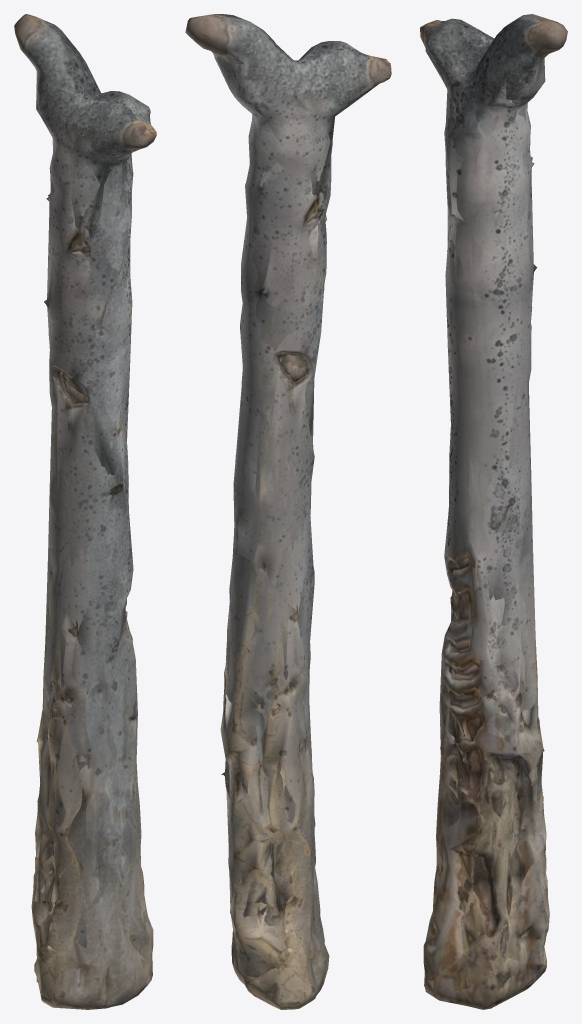
File: dead_quiver_trunk.glb
The picture shows the model from 3 angles, left to right: view 1: azimuth 90°, elevation 25°; view 2: azimuth 150°, elevation 25°; view 3: azimuth 270°, elevation 25°; orthographic projection. The views are drawn at different scales.
Parts seen in each view (by area): view 1: dead_quiver_trunk_LOD0 (×2); view 2: dead_quiver_trunk_LOD0 (×2); view 3: dead_quiver_trunk_LOD0 (×2).
Part boxes in pixels (<box>): dead_quiver_trunk_LOD0 (×2): <box>14,14,156,1009</box>; dead_quiver_trunk_LOD0 (×2): <box>185,14,391,1009</box>; dead_quiver_trunk_LOD0 (×2): <box>420,14,567,1009</box>.
Size of the model in its own units: 0.3053 by 1.99 by 0.2682.
Materials: 1 (1 with a texture image).
